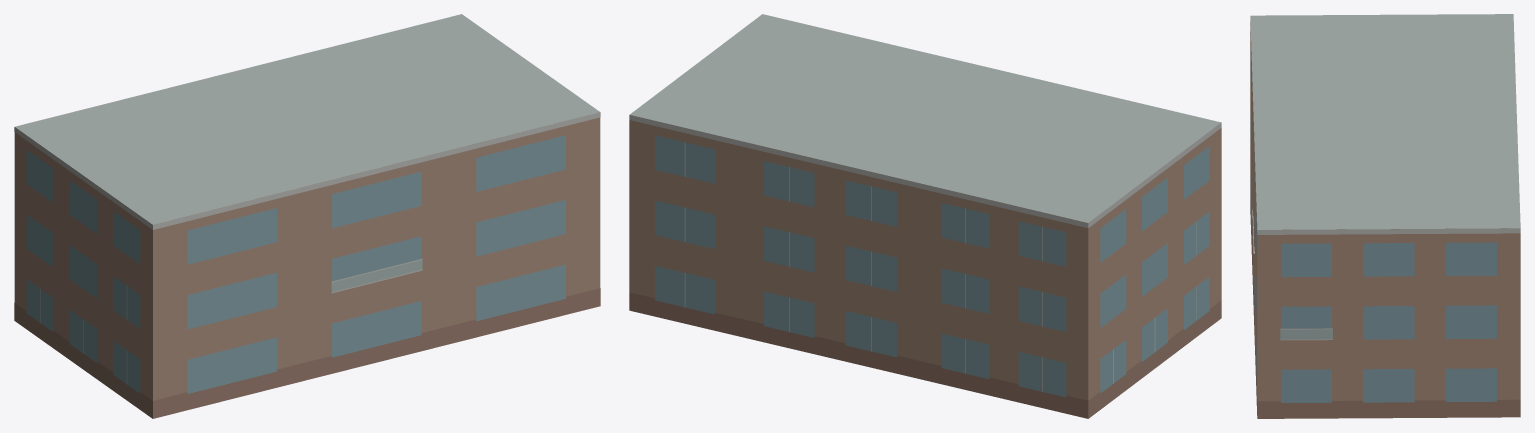
File: residential-e39c4838-8854-443e-8e87-a03fab3845a0.glb
The picture shows the model from 3 angles, left to right: view 1: azimuth 30°, elevation 25°; view 2: azimuth 150°, elevation 25°; view 3: azimuth 270°, elevation 25°; orthographic projection. The views are drawn at different scales.
Parts seen in each view (by area): view 1: residential-e39c4838-8854-443e-8e87-a03fab3845a0.tmp; view 2: residential-e39c4838-8854-443e-8e87-a03fab3845a0.tmp; view 3: residential-e39c4838-8854-443e-8e87-a03fab3845a0.tmp.
Part boxes in pixels (<box>): residential-e39c4838-8854-443e-8e87-a03fab3845a0.tmp: <box>14,14,600,418</box>; residential-e39c4838-8854-443e-8e87-a03fab3845a0.tmp: <box>629,14,1221,418</box>; residential-e39c4838-8854-443e-8e87-a03fab3845a0.tmp: <box>1250,14,1520,418</box>.
Size of the model in its own units: 22.45 by 9.15 by 11.88.
